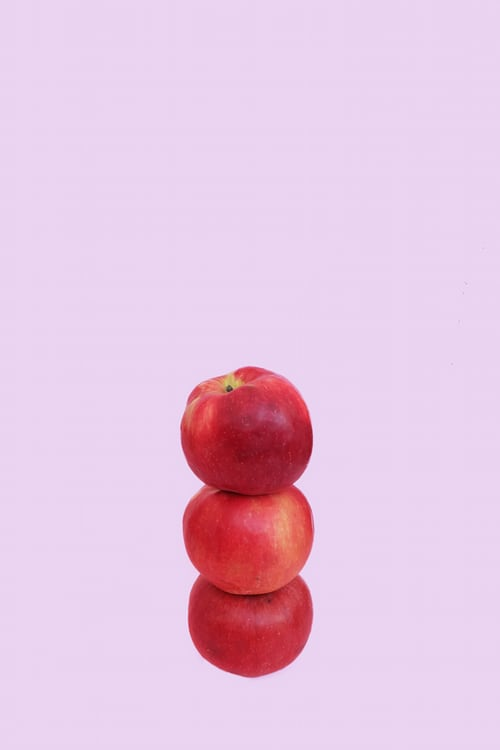apple: (176, 359, 314, 495), (179, 478, 319, 595), (186, 567, 321, 680)
